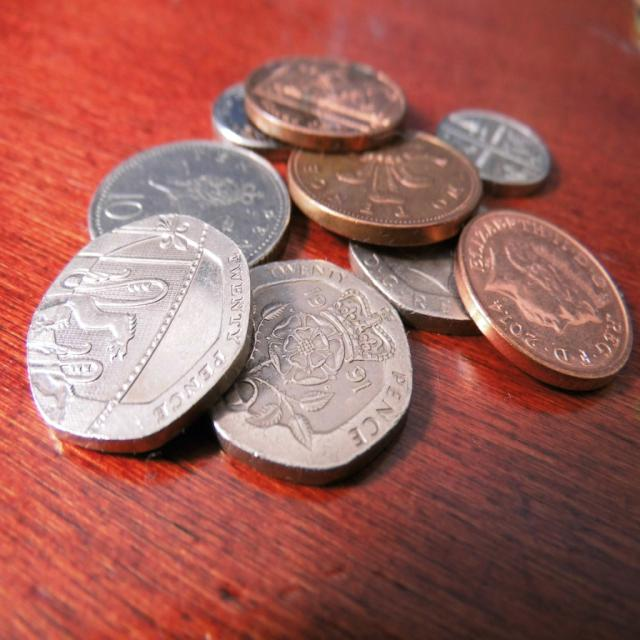Coin: (24, 52, 636, 486)
